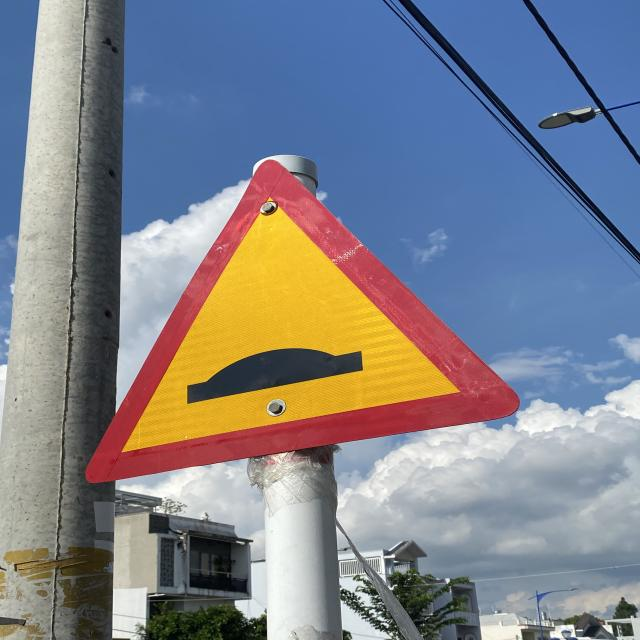Duong_Cong_Ben_Phai: (88, 162, 520, 492)
